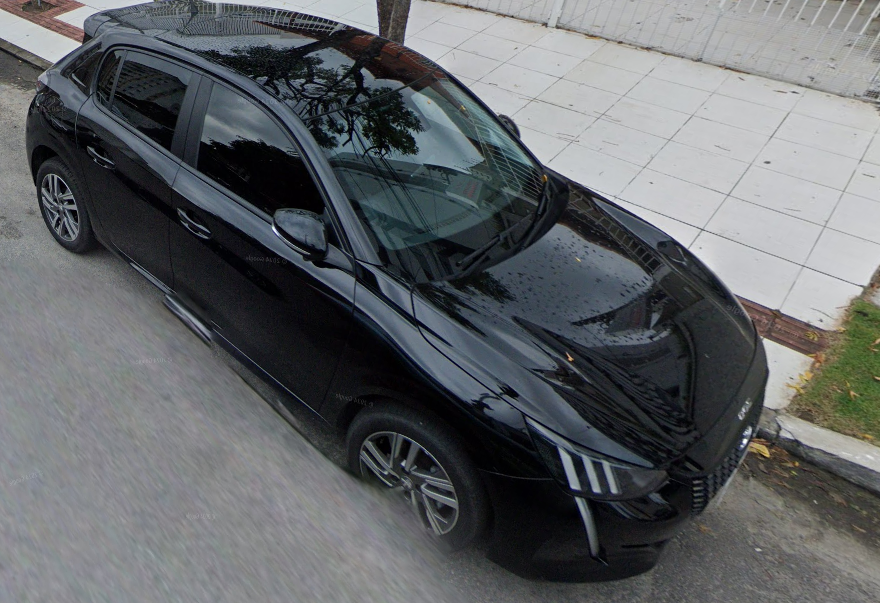car: (23, 1, 777, 582)
